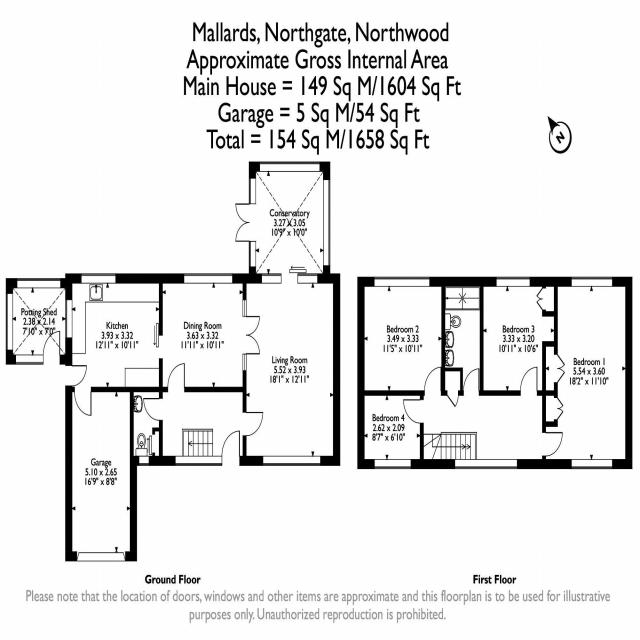DOOR: (221, 430, 240, 466), (402, 398, 424, 425), (167, 362, 185, 393), (242, 411, 264, 436), (542, 431, 563, 457), (520, 366, 538, 396), (424, 366, 442, 396), (74, 387, 92, 417), (65, 364, 87, 387), (143, 397, 163, 421), (463, 368, 480, 396)
DOUBLE DOOR: (242, 316, 261, 355)
ROOM: (242, 273, 341, 466), (541, 276, 633, 470), (65, 273, 163, 417), (159, 273, 261, 393), (357, 276, 445, 396), (479, 276, 558, 396), (357, 390, 424, 470)
SLIDING DOOR: (281, 268, 307, 284), (159, 334, 163, 359)
WINDOW: (455, 459, 517, 470), (263, 455, 321, 466), (374, 276, 430, 287), (183, 272, 233, 284), (571, 275, 613, 288), (571, 458, 613, 470), (374, 459, 412, 470), (81, 273, 116, 284), (496, 276, 530, 287), (65, 299, 73, 339), (139, 456, 149, 466)
